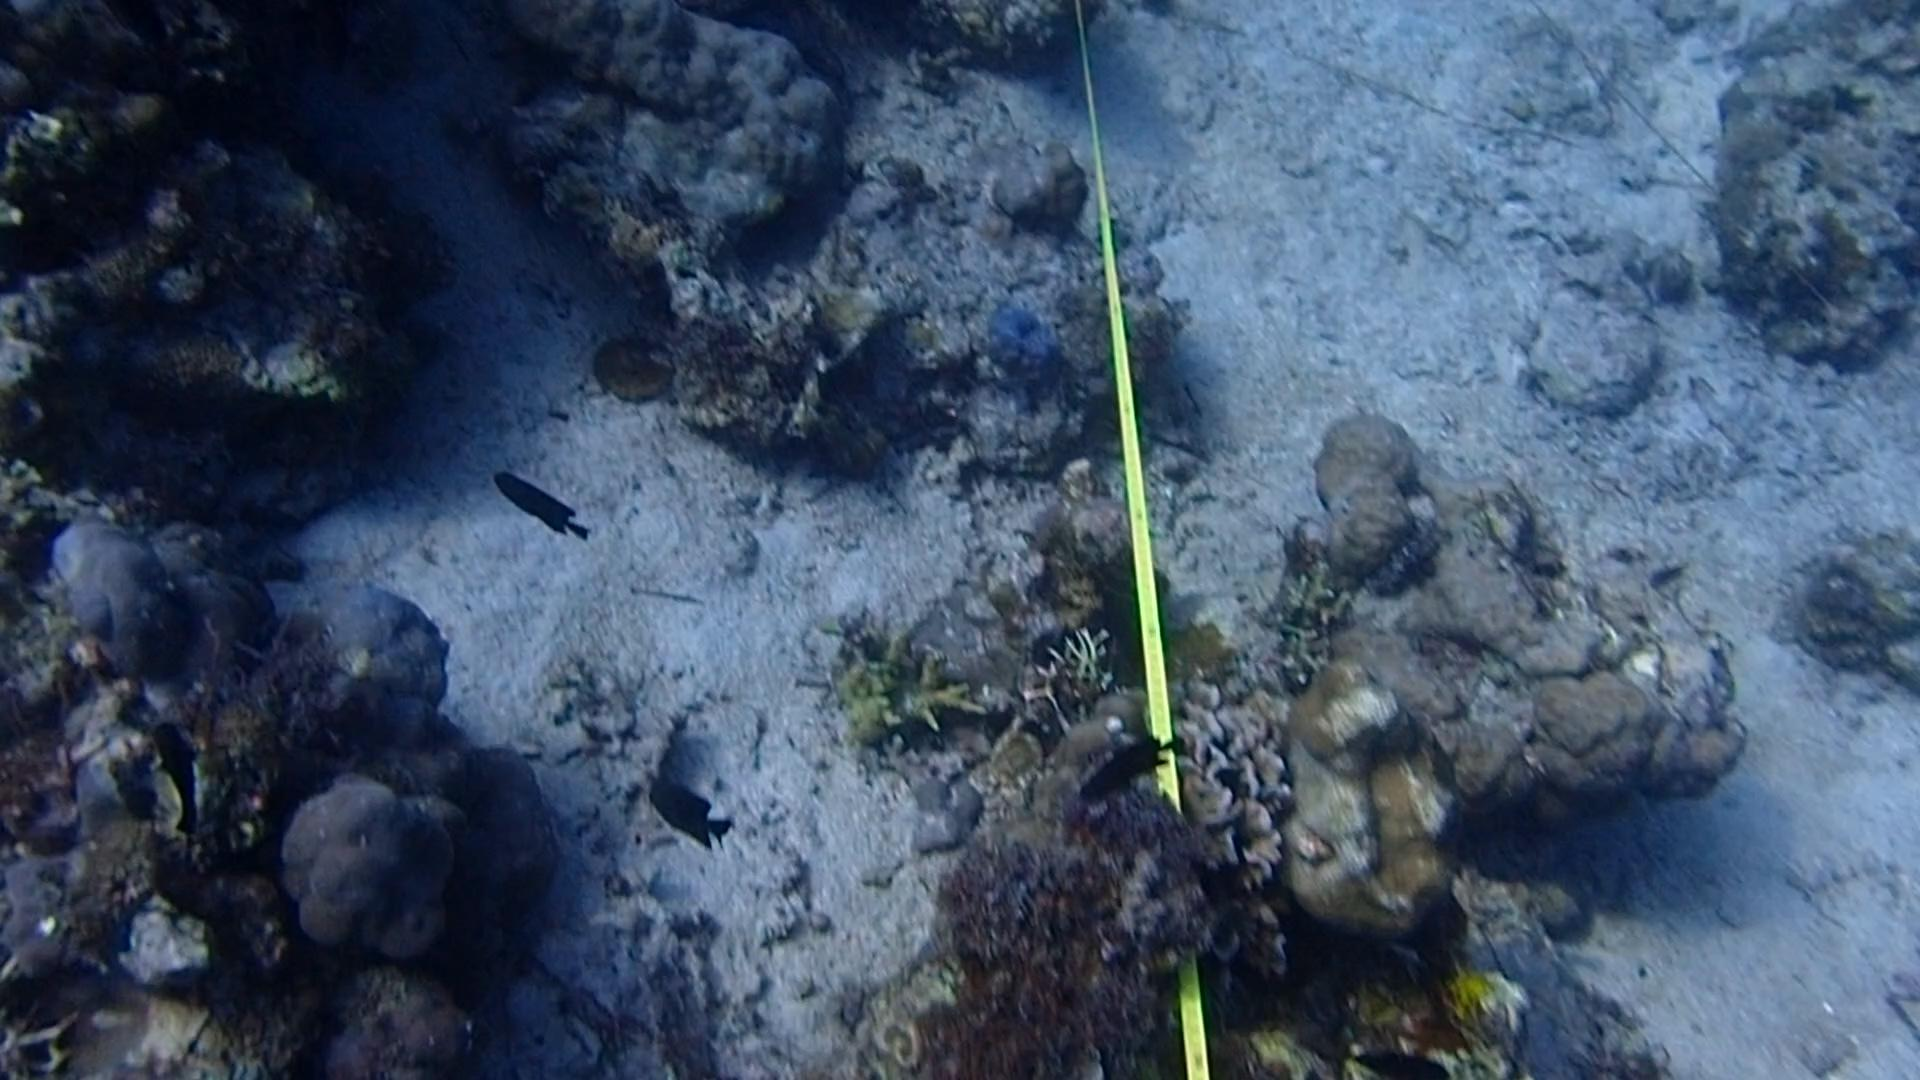Dark Fish: (141, 731, 223, 843), (491, 465, 587, 556), (1083, 731, 1164, 833), (630, 778, 740, 851), (1345, 1030, 1449, 1080)
Light Fish: (1621, 223, 1687, 314)
